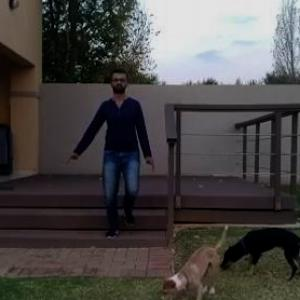land: (76, 76, 160, 233)
